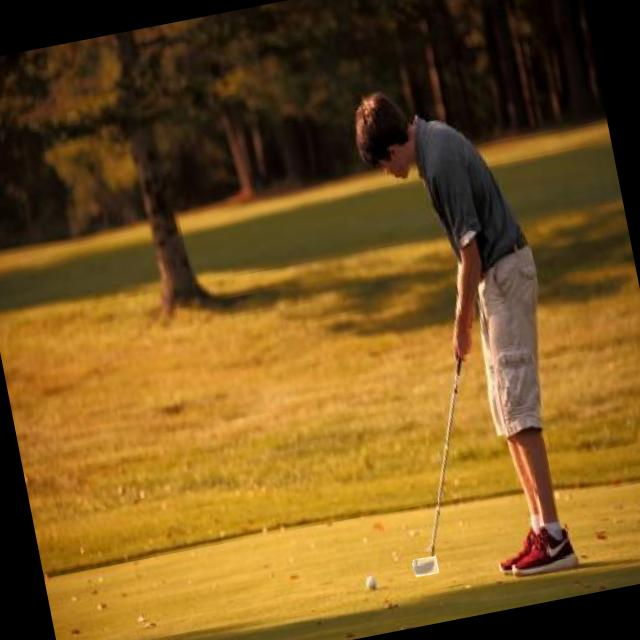club head: (412, 556, 440, 578)
